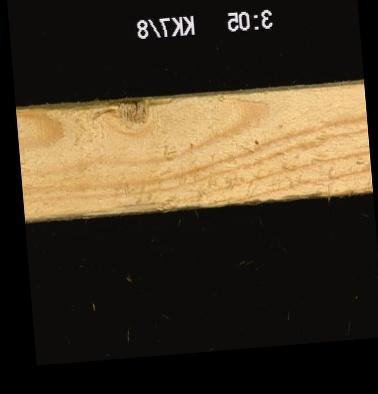edge_knot: (104, 97, 148, 136)
wave: (85, 196, 198, 213)
